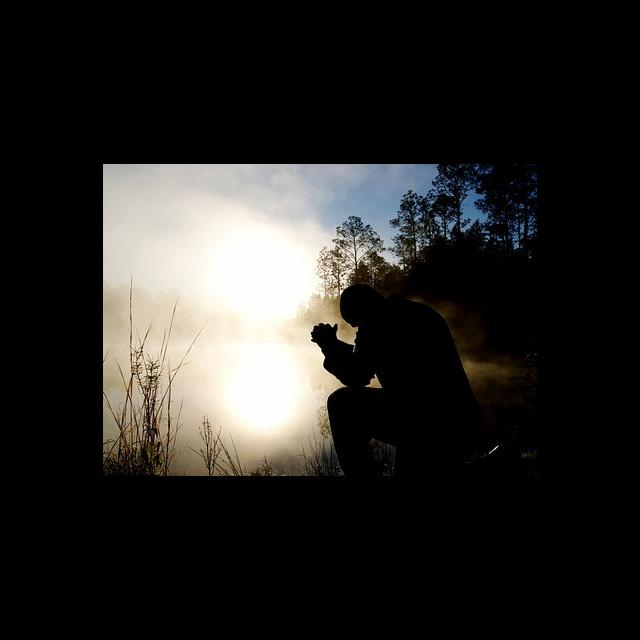male: (319, 282, 394, 333)
